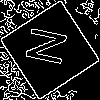N: (25, 25, 77, 69)
